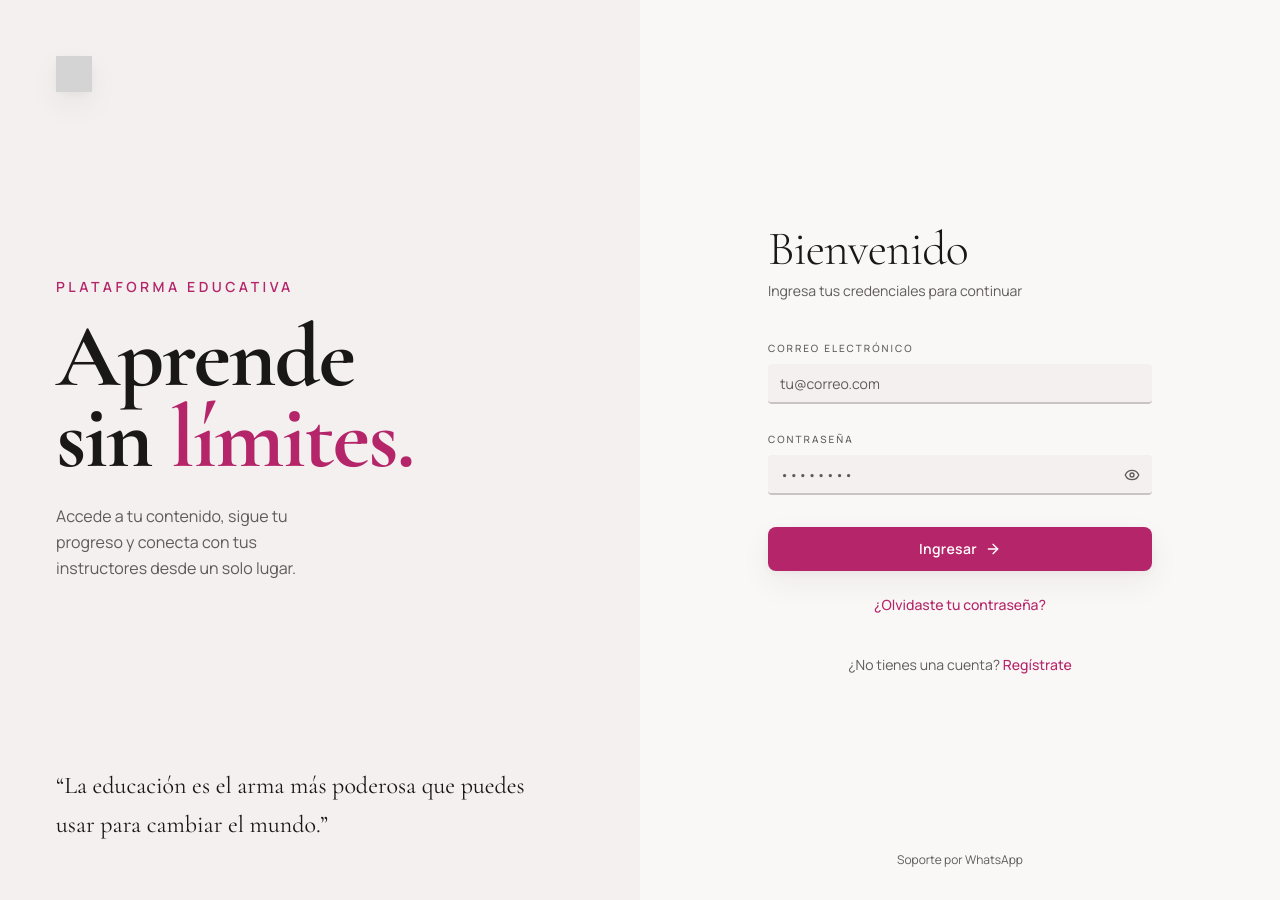
Test: Página de login › rechaza un correo sin formato válido
This screenshot has width=1280, height=900.
Type "correo-invalido" into the field labelled "Correo electrónico" at [960, 384], box [768, 364, 1152, 404]
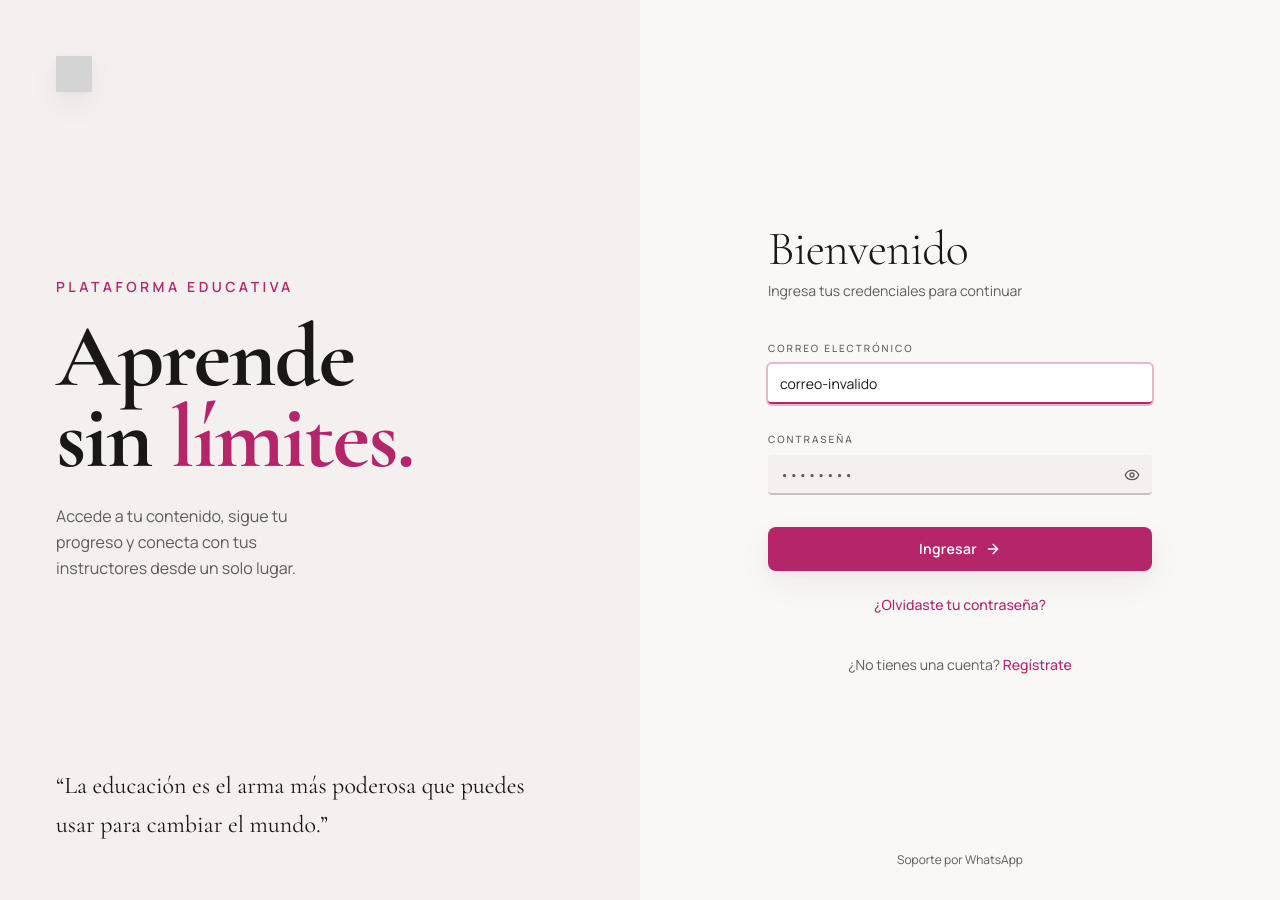
Type "clave12345" into the password field labelled "Contraseña" at [960, 475], box [768, 455, 1152, 495]
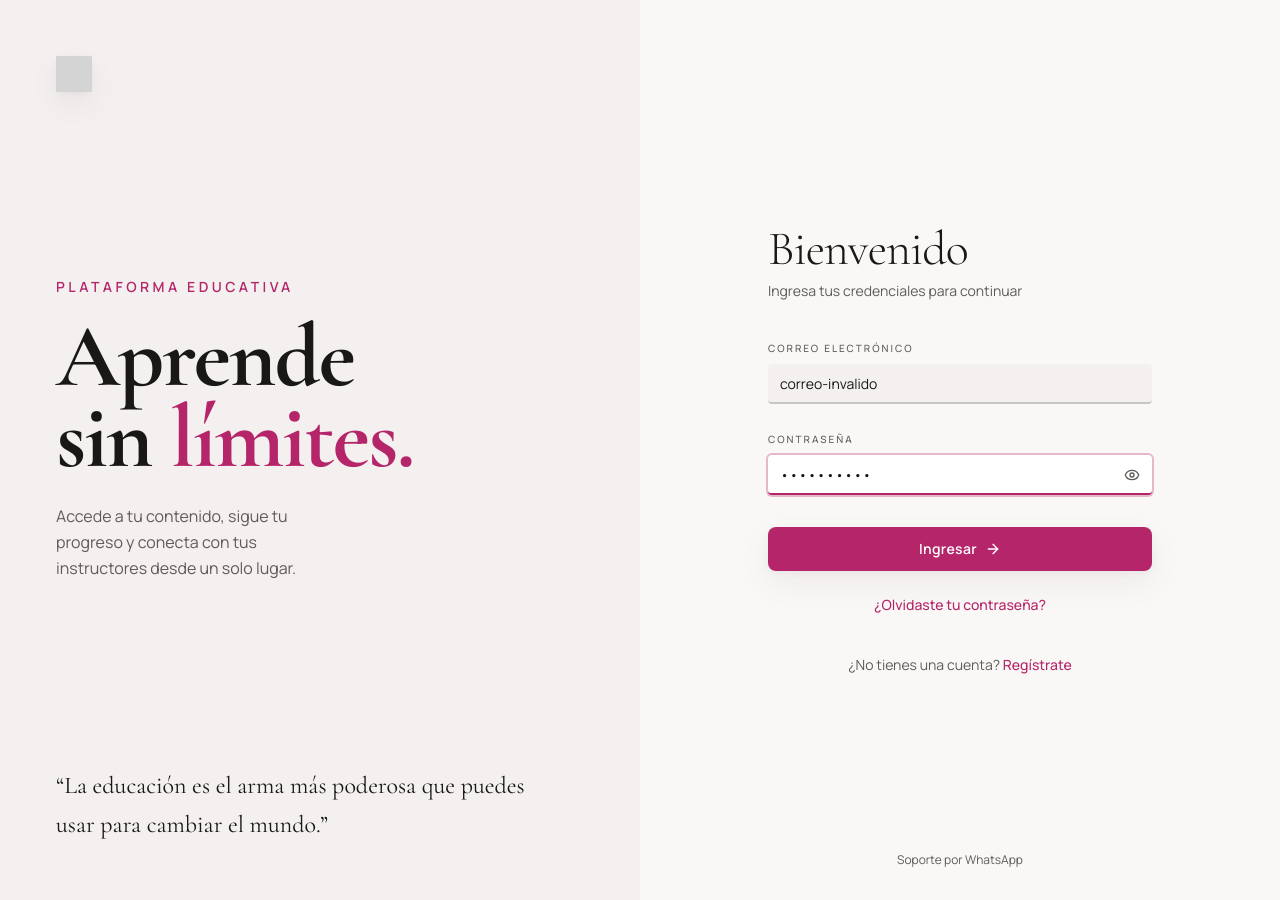
Click the button "Ingresar" at [960, 549], box [768, 527, 1152, 571]
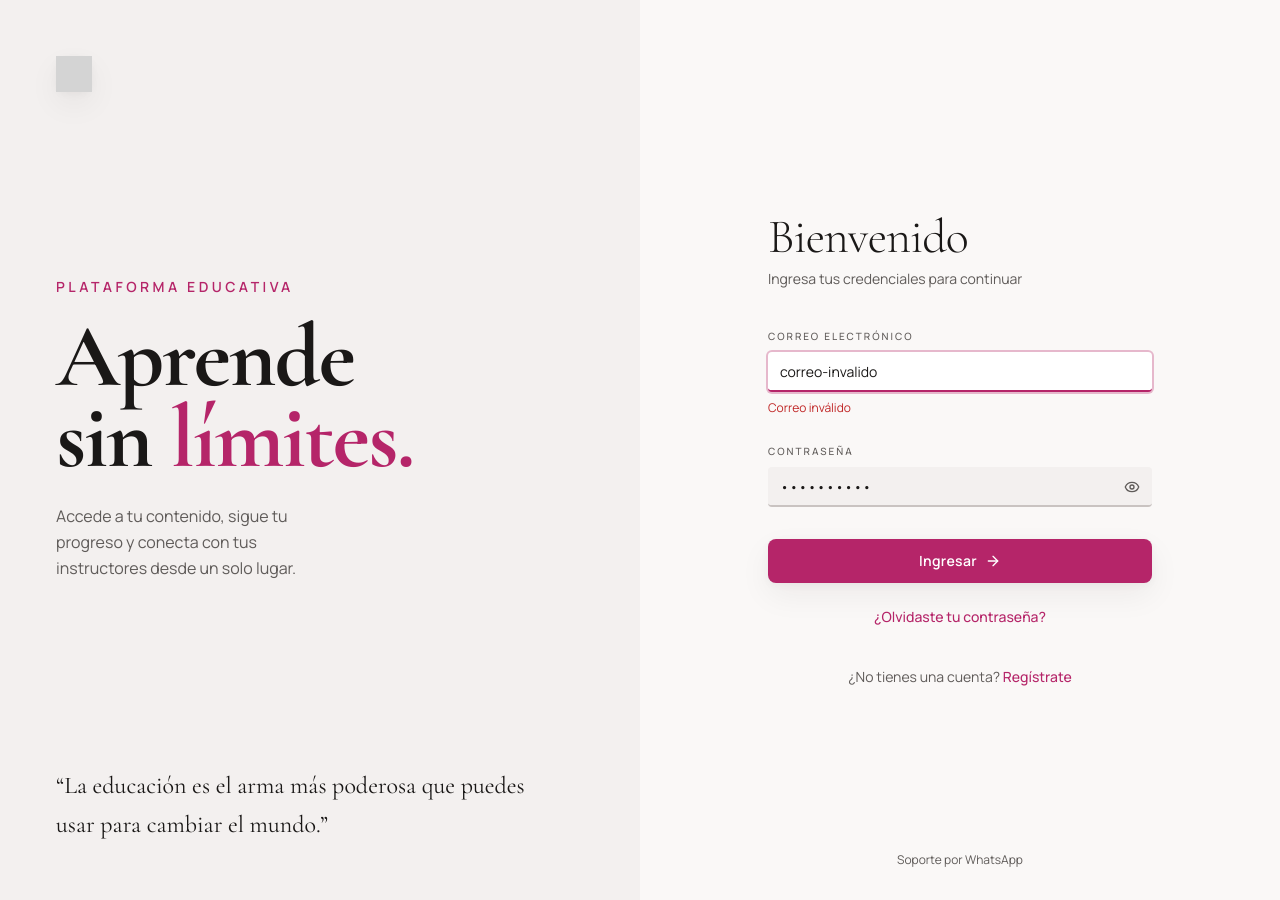
Expected: the text "Correo inválido" is shown, [768, 399, 851, 416]
